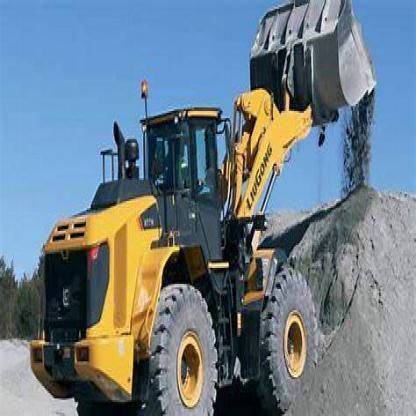bull_dozer/loader/grader: (21, 2, 380, 414)
